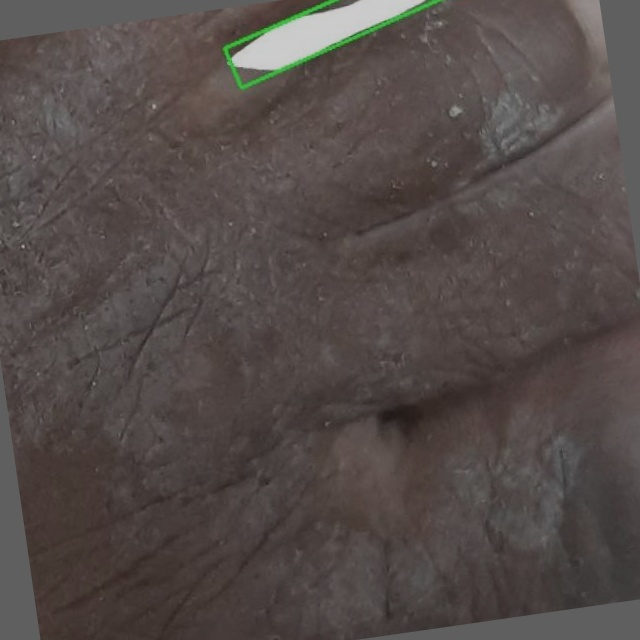Eczema: (223, 0, 439, 88)
